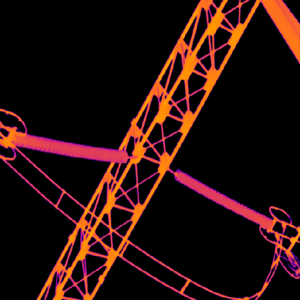insulator: (173, 166, 273, 231), (13, 130, 128, 165)
